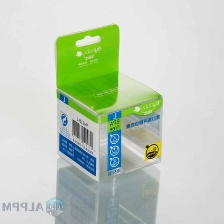plastic_box: (45, 16, 175, 187)
